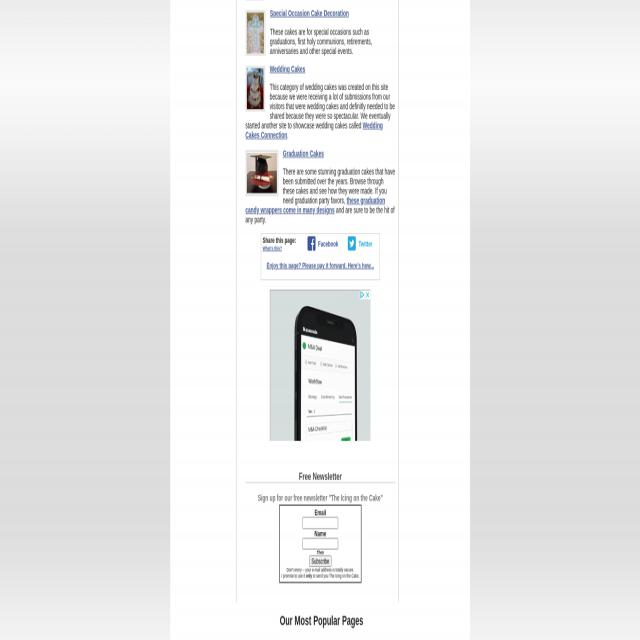button: (270, 290, 370, 440), (246, 150, 278, 197), (246, 10, 266, 57), (245, 66, 265, 112), (309, 555, 332, 567), (364, 290, 370, 300), (360, 290, 365, 299)
field: (302, 517, 338, 529), (302, 538, 338, 549)
